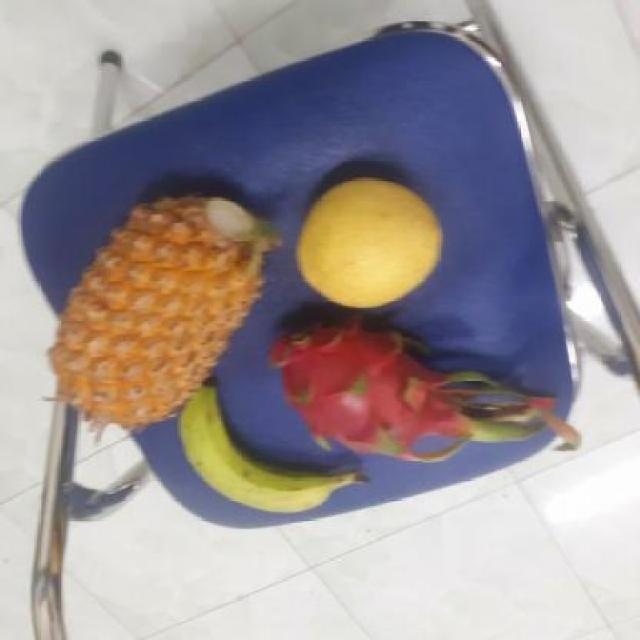banana: (171, 382, 349, 516)
dragon fruit: (264, 310, 474, 462)
guava: (290, 174, 444, 306)
pineapple: (47, 196, 268, 422)
